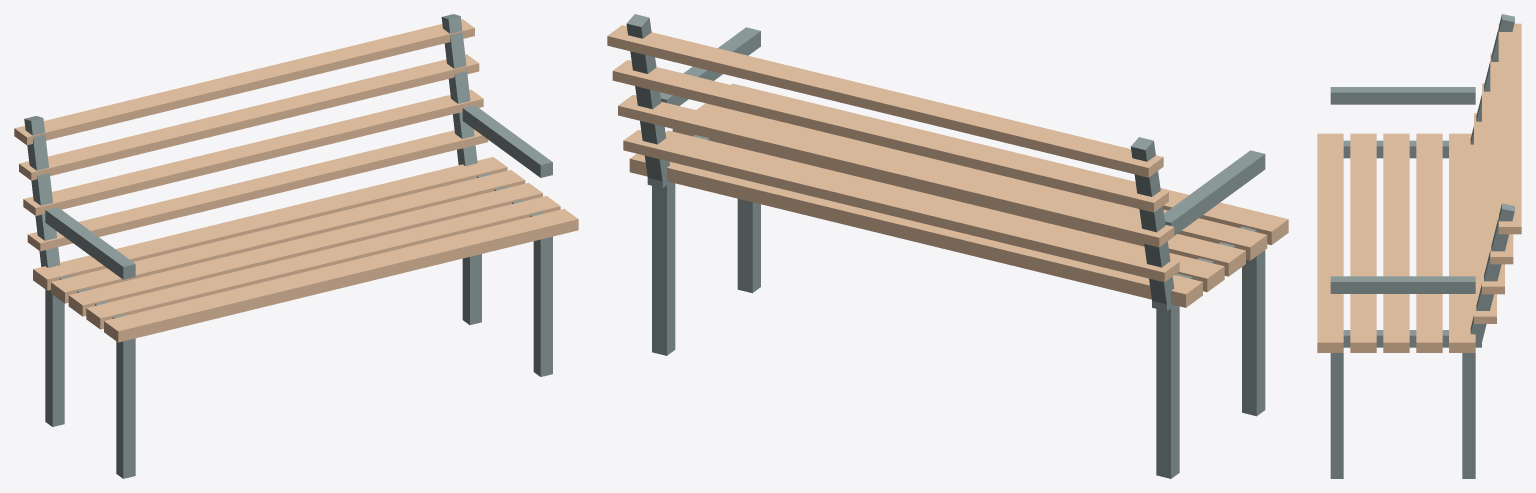
Rendered from benchIron.glb.
3 renders of one model, left to right at view 1: azimuth 30°, elevation 25°; view 2: azimuth 150°, elevation 25°; view 3: azimuth 270°, elevation 25°, orthographic. The views are drawn at different scales.
Visible parts, largest first — view 1: benchIron; view 2: benchIron; view 3: benchIron.
Boxes of the visible parts, x1=… form: benchIron: x1=14, y1=14, x2=578, y2=478; benchIron: x1=607, y1=14, x2=1288, y2=478; benchIron: x1=1317, y1=14, x2=1521, y2=478.
Bounding box in the file's own units: 0.75 × 0.4522 × 0.31.
